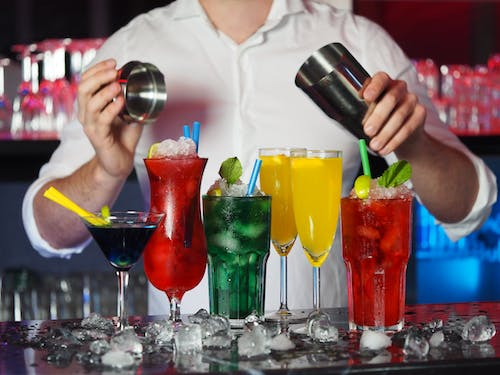alcohol: (141, 156, 208, 332), (78, 211, 166, 341), (287, 149, 344, 335), (339, 196, 413, 334), (201, 194, 271, 329), (257, 147, 308, 323)
